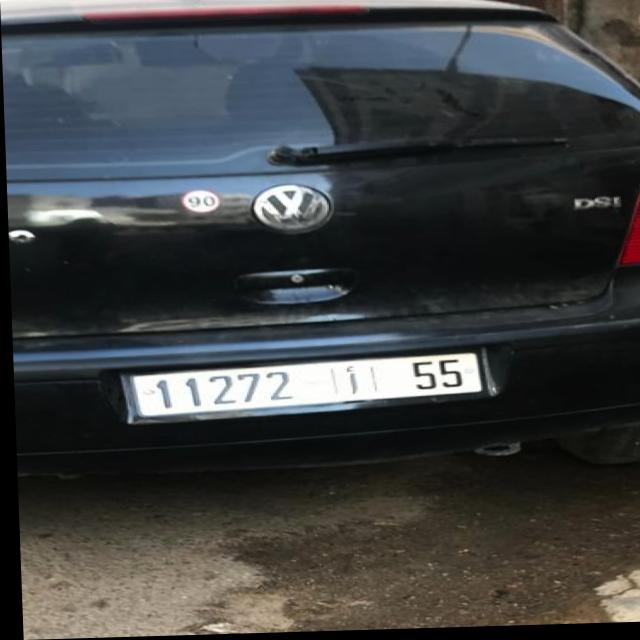License-Plate: (132, 356, 479, 418)
